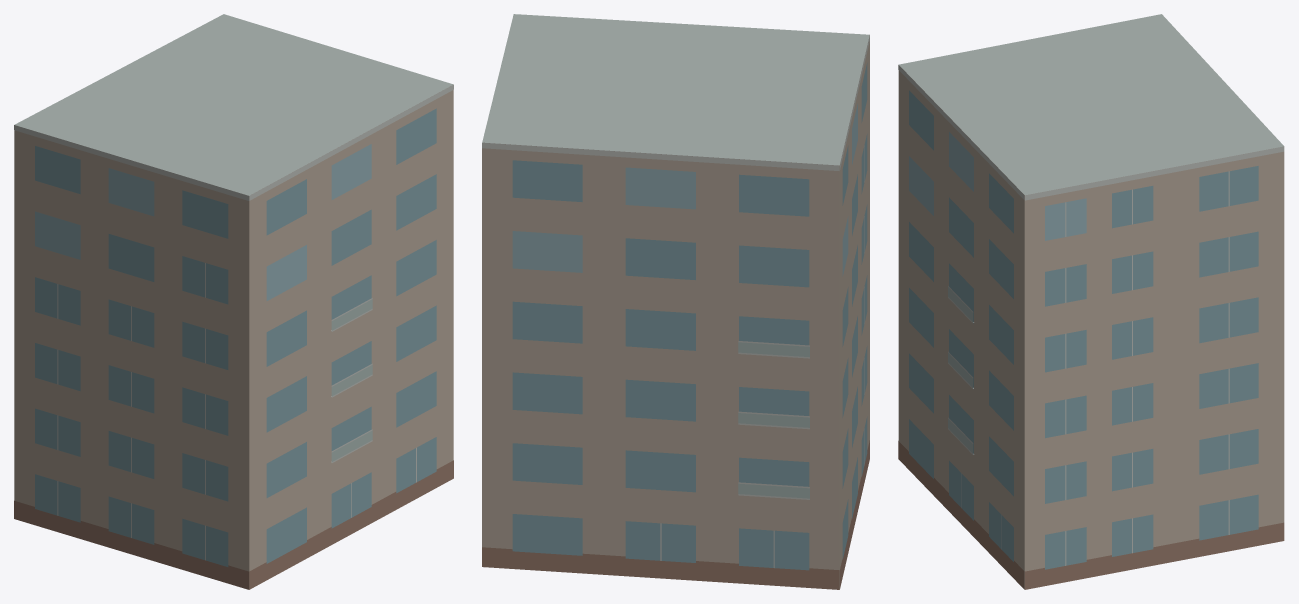
The model's file is survey-upis-32877475.glb.
The picture shows the model from 3 angles, left to right: view 1: azimuth 30°, elevation 25°; view 2: azimuth 150°, elevation 25°; view 3: azimuth 270°, elevation 25°; orthographic projection. The views are drawn at different scales.
Visible parts, largest first — view 1: survey-upis-32877475.tmp; view 2: survey-upis-32877475.tmp; view 3: survey-upis-32877475.tmp.
Boxes of the visible parts, x1,y1,x2,y2 form: survey-upis-32877475.tmp: (14,14,453,589); survey-upis-32877475.tmp: (482,14,869,589); survey-upis-32877475.tmp: (898,14,1284,589).
Bounding box in the file's own units: 18.05 × 18.3 × 16.23.
